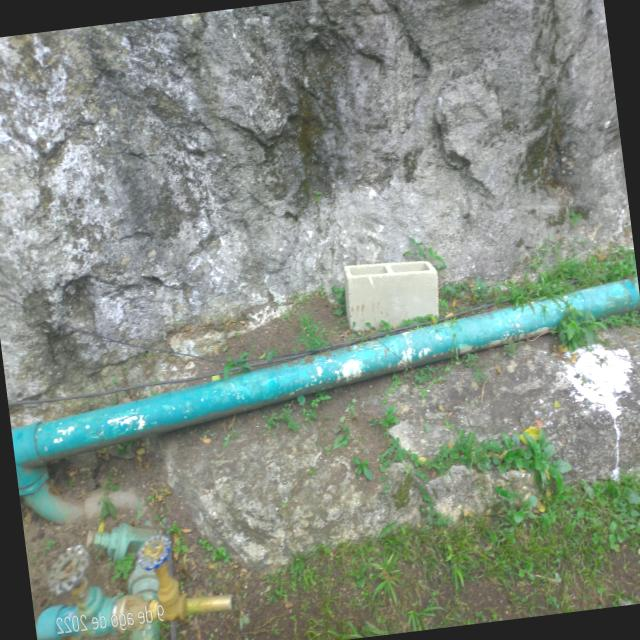gas: (11, 280, 640, 462)
